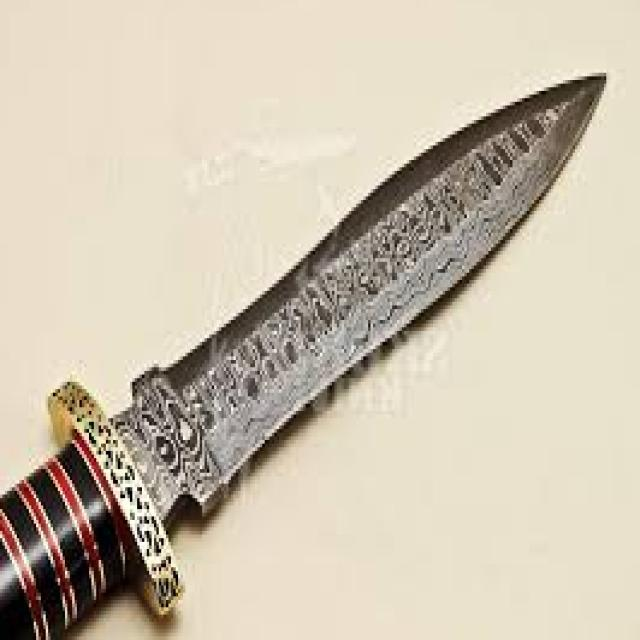Gun: (0, 40, 626, 640)
